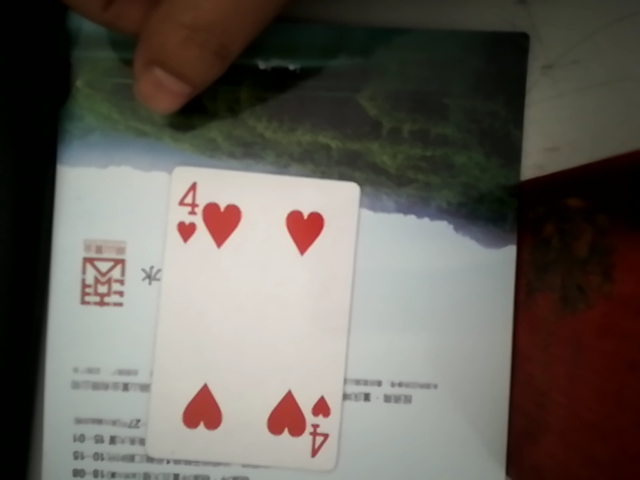hx 4: (125, 158, 353, 471)
